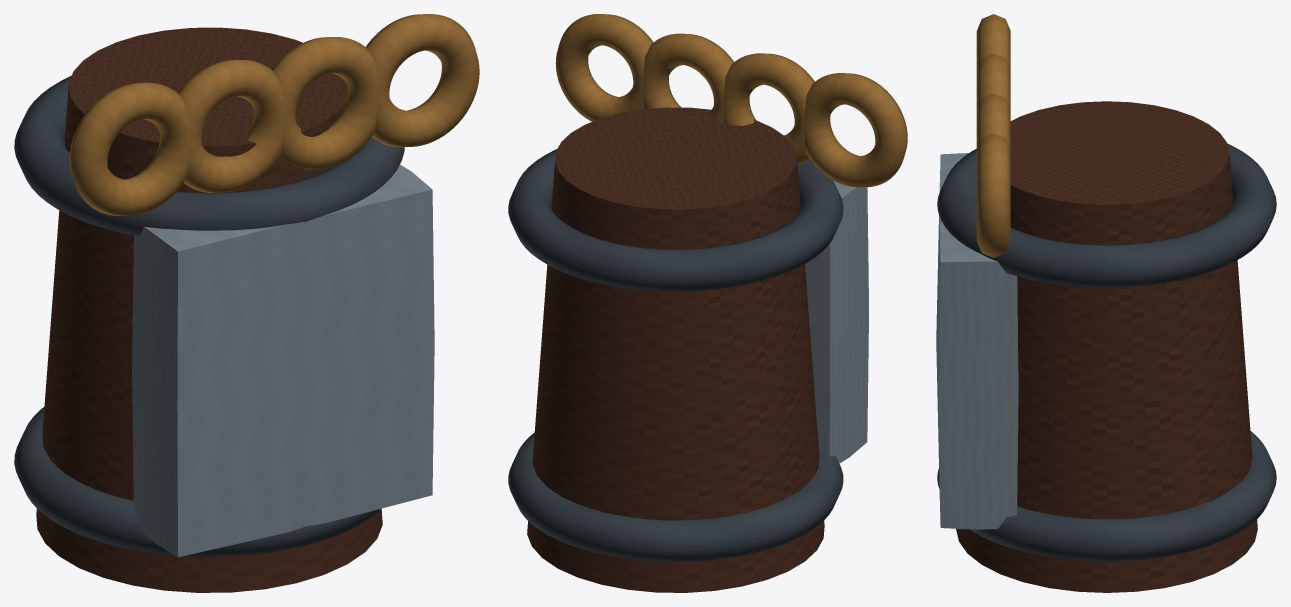
File: power-knuckles.glb
The picture shows the model from 3 angles, left to right: view 1: azimuth 30°, elevation 25°; view 2: azimuth 150°, elevation 25°; view 3: azimuth 270°, elevation 25°; orthographic projection. The views are drawn at different scales.
Parts seen in each view (by area): view 1: steel.3, leather.0, iron.2, brass.4, iron.1, brass.7, brass.6, brass.5; view 2: leather.0, iron.2, iron.1, steel.3, brass.4, brass.7, brass.5, brass.6; view 3: leather.0, steel.3, iron.2, iron.1, brass.7, brass.4, brass.5, brass.6.
Boxes of the visible parts, bbox=[...] form: steel.3: bbox=[132, 164, 434, 557]; leather.0: bbox=[36, 27, 382, 592]; iron.2: bbox=[14, 75, 404, 236]; brass.4: bbox=[69, 82, 189, 215]; iron.1: bbox=[14, 407, 381, 556]; brass.7: bbox=[366, 14, 479, 147]; brass.6: bbox=[272, 37, 377, 169]; brass.5: bbox=[178, 60, 283, 192]; leather.0: bbox=[527, 107, 824, 592]; iron.2: bbox=[508, 149, 843, 291]; iron.1: bbox=[508, 432, 843, 561]; steel.3: bbox=[805, 180, 868, 463]; brass.4: bbox=[804, 73, 907, 187]; brass.7: bbox=[555, 14, 653, 121]; brass.5: bbox=[723, 53, 814, 165]; brass.6: bbox=[643, 33, 733, 122]; leather.0: bbox=[956, 101, 1257, 592]; steel.3: bbox=[936, 153, 1018, 529]; iron.2: bbox=[937, 143, 1276, 287]; iron.1: bbox=[937, 431, 1276, 561]; brass.7: bbox=[976, 133, 1010, 257]; brass.4: bbox=[976, 14, 1010, 70]; brass.5: bbox=[976, 54, 1010, 110]; brass.6: bbox=[976, 94, 1010, 149].
Bounding box in the file's own units: 0.216 × 0.263 × 0.1805.
Materials: 4 (4 with a texture image).
